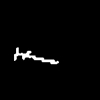double_crochet: (14, 48, 58, 63)
